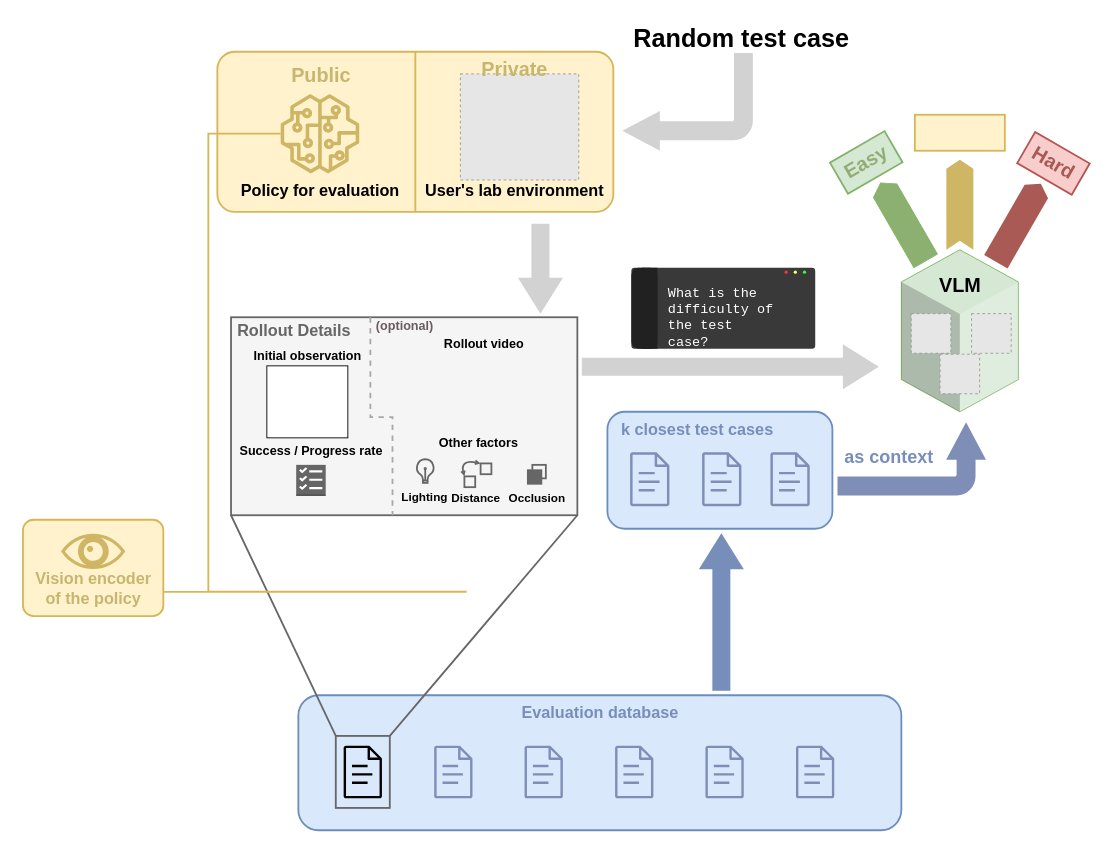
Image size: 1106x846. Some labels were removed from this diagram. Grey dashed boxes stand in for pictures. Here are the shapes that lost their labels. From the top down, the centre of each, then its label:
(x=959, y=132): Medium
(x=307, y=401): <figure>
